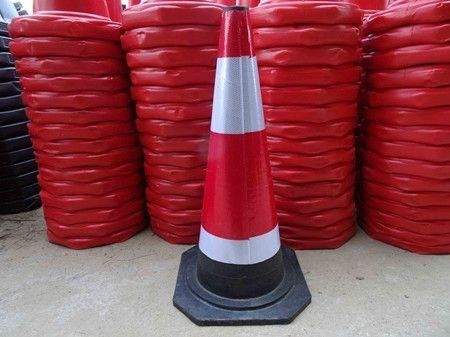cone_barrel: (177, 6, 290, 294)
